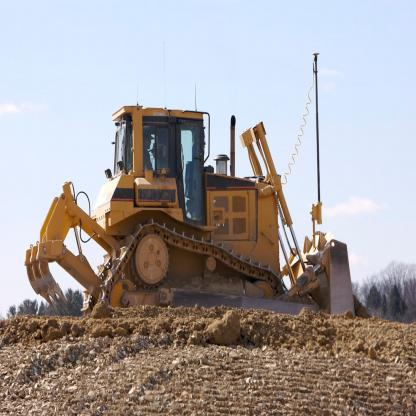bull_dozer/loader/grader: (14, 90, 358, 332)
